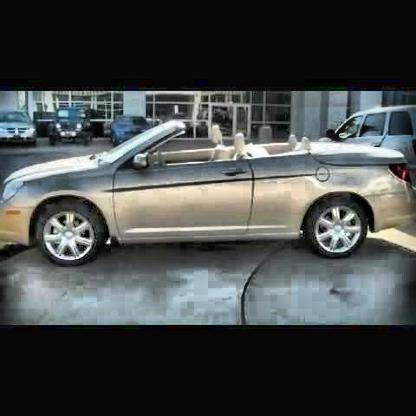Chrysler Sebring Convertible 2010: (3, 120, 415, 268)
